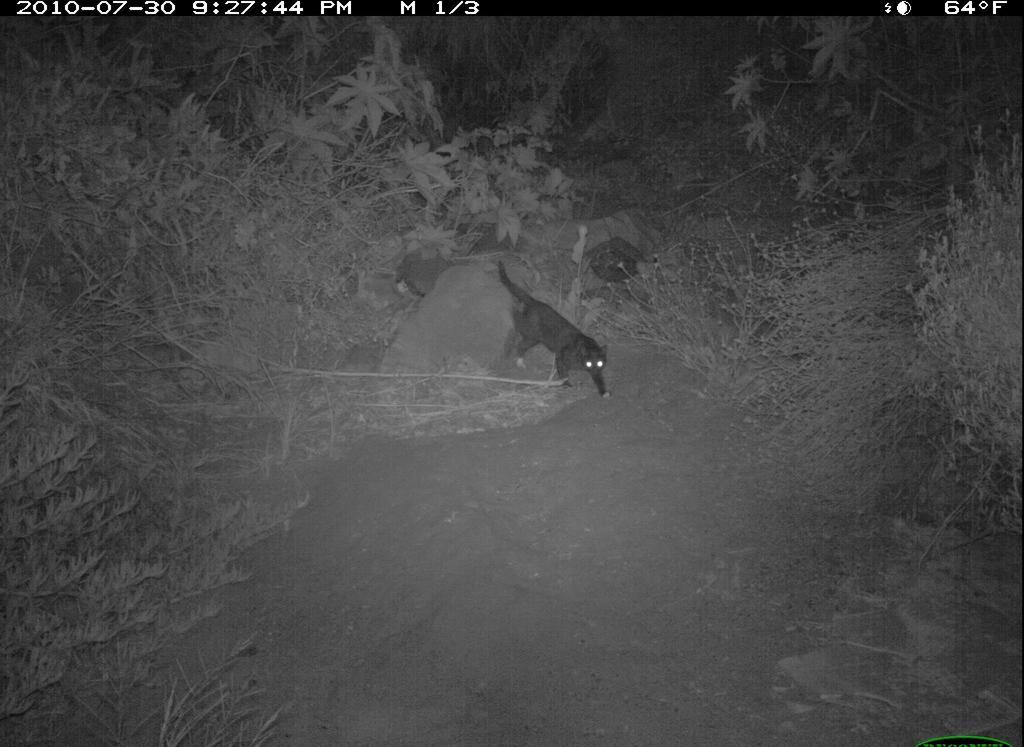cat: (492, 260, 628, 410)
